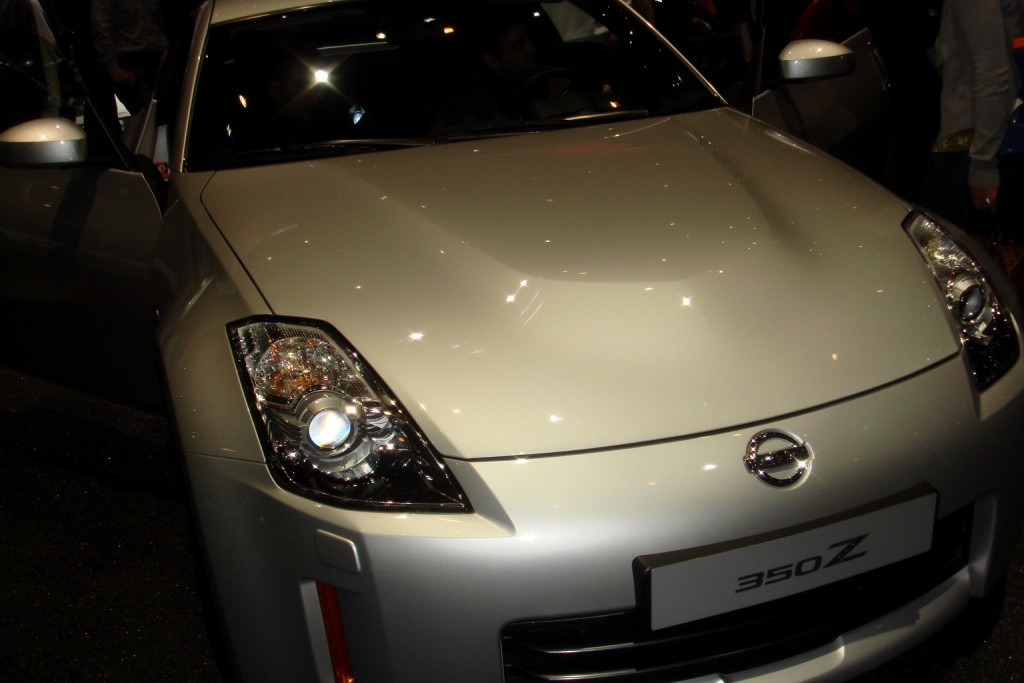Car: (0, 0, 1022, 682)
